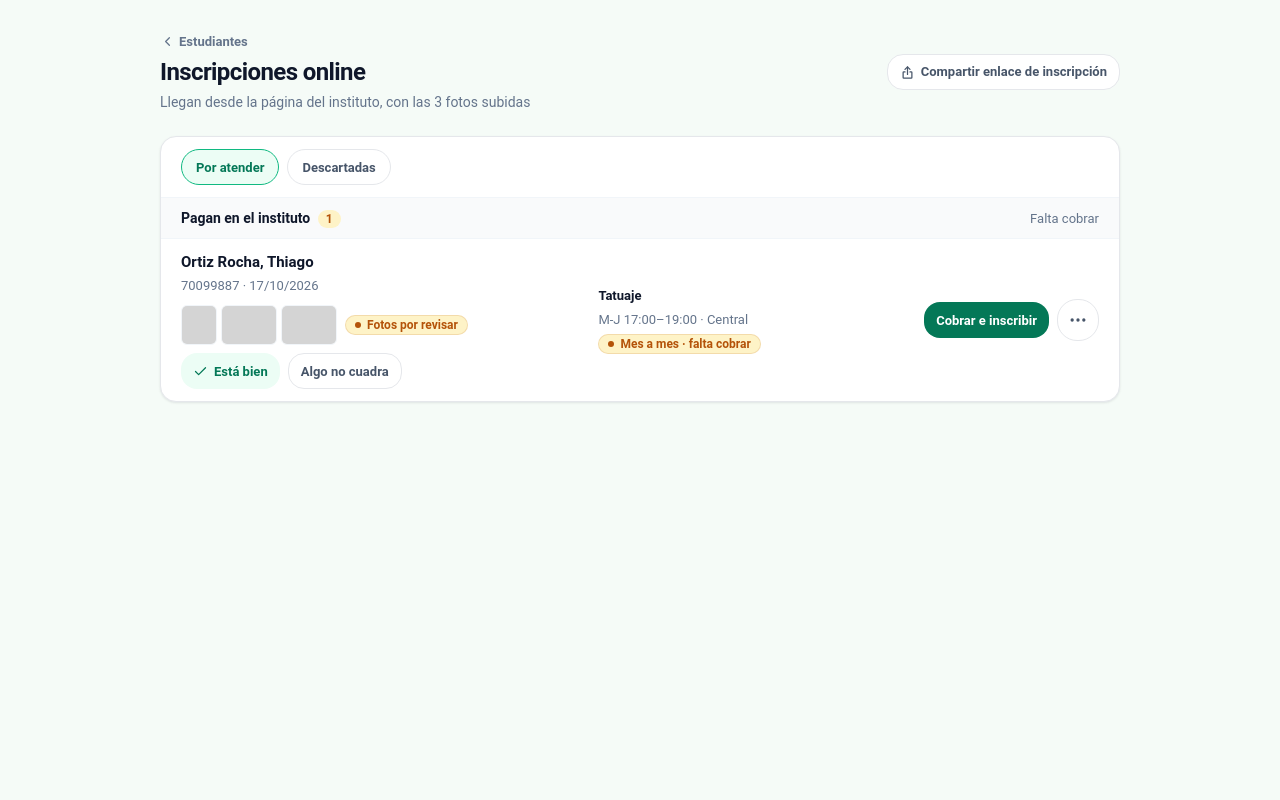
it: L9 · la recepción con el permiso de fotos las revisa desde acá › «Algo no cuadra» pide el motivo y la deja observada
The width and height of the screenshot is (1280, 800).
Click the button with aria-label "Algo no cuadra en las fotos de Ortiz Rocha, Thiago" at point(345, 371), box [288, 353, 402, 389]
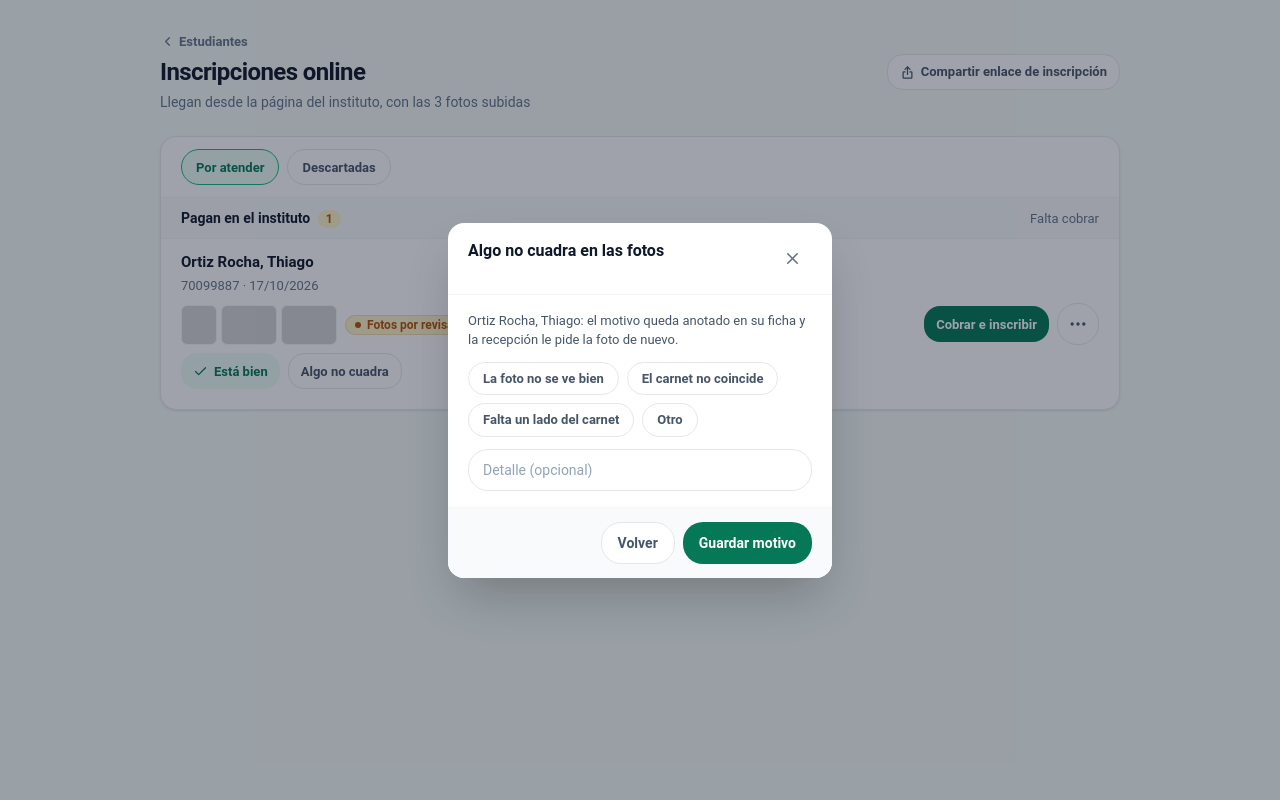
Click the button "El carnet no coincide" at point(703, 378), box [627, 362, 778, 395]
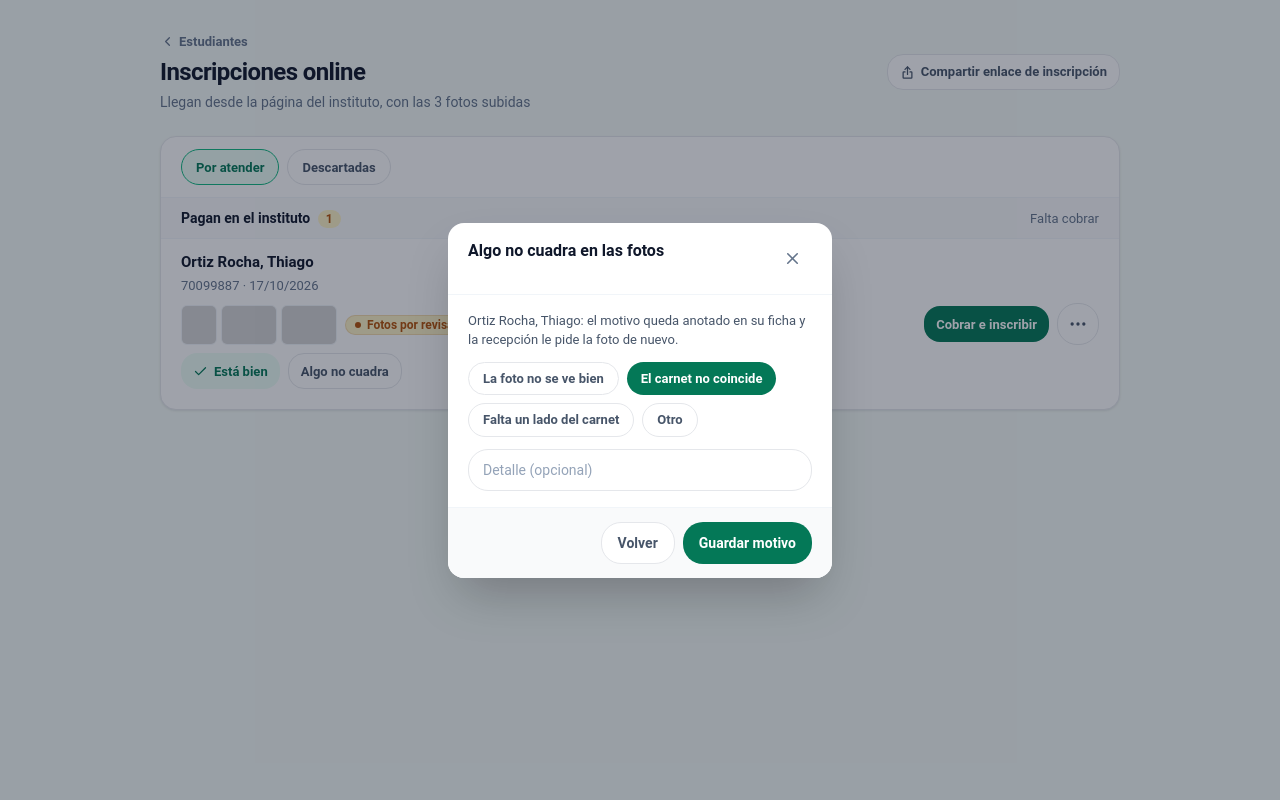
Click the button "Guardar motivo" at point(747, 542), box [683, 522, 812, 564]
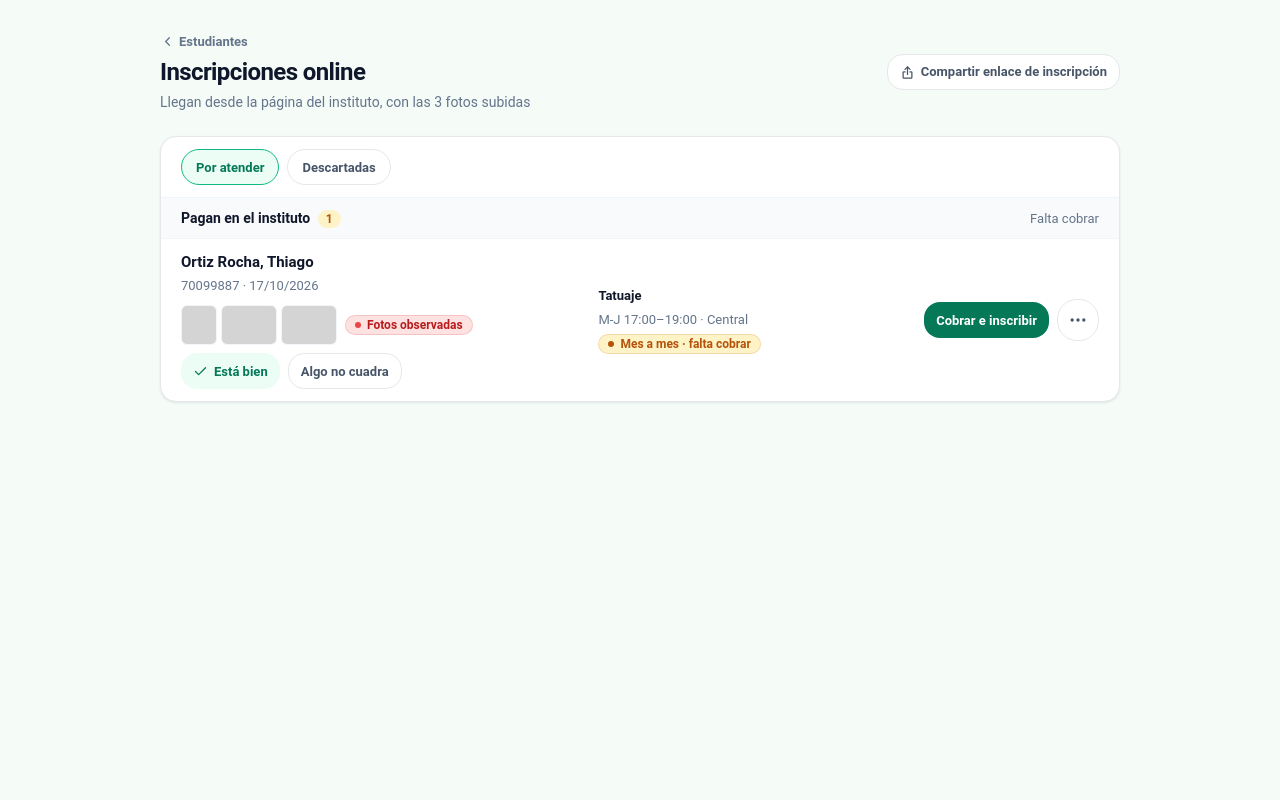
expect the text "Fotos observadas" is shown: met, box [345, 315, 473, 335]
